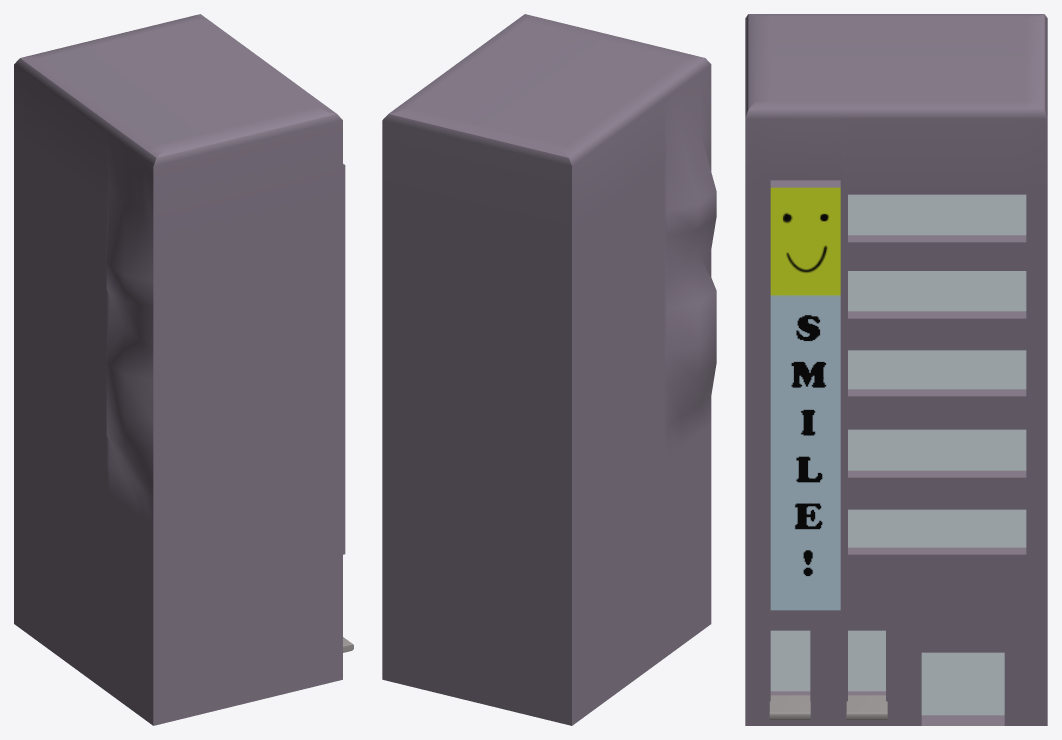
The model's file is BuildingTall_03.fbx.
3 renders of one model, left to right at view 1: azimuth 30°, elevation 25°; view 2: azimuth 150°, elevation 25°; view 3: azimuth 270°, elevation 25°, orthographic. The views are drawn at different scales.
Parts seen in each view (by area): view 1: polySurface760; view 2: polySurface760; view 3: polySurface760.
Boxes of the visible parts, x1=… form: polySurface760: x1=14, y1=14, x2=353, y2=725; polySurface760: x1=382, y1=14, x2=716, y2=725; polySurface760: x1=745, y1=14, x2=1047, y2=725.
Bounding box in the file's own units: 4.92 × 11.7 × 5.2.
1 material, 1 textured.
